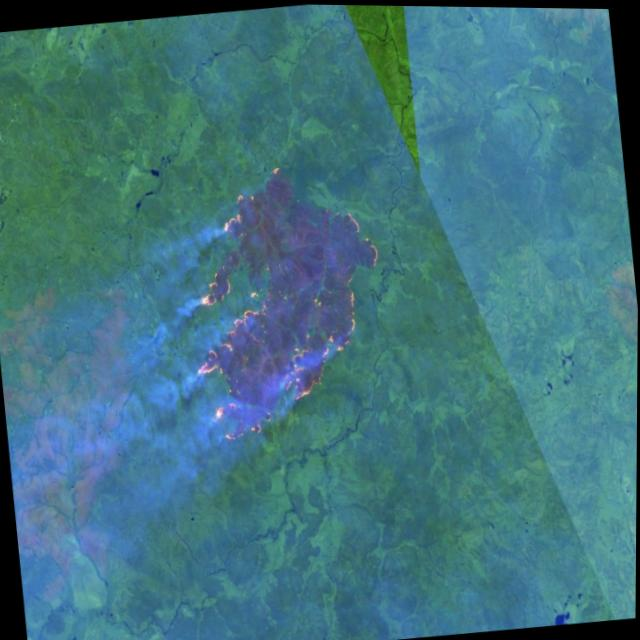fire: (174, 139, 400, 456)
